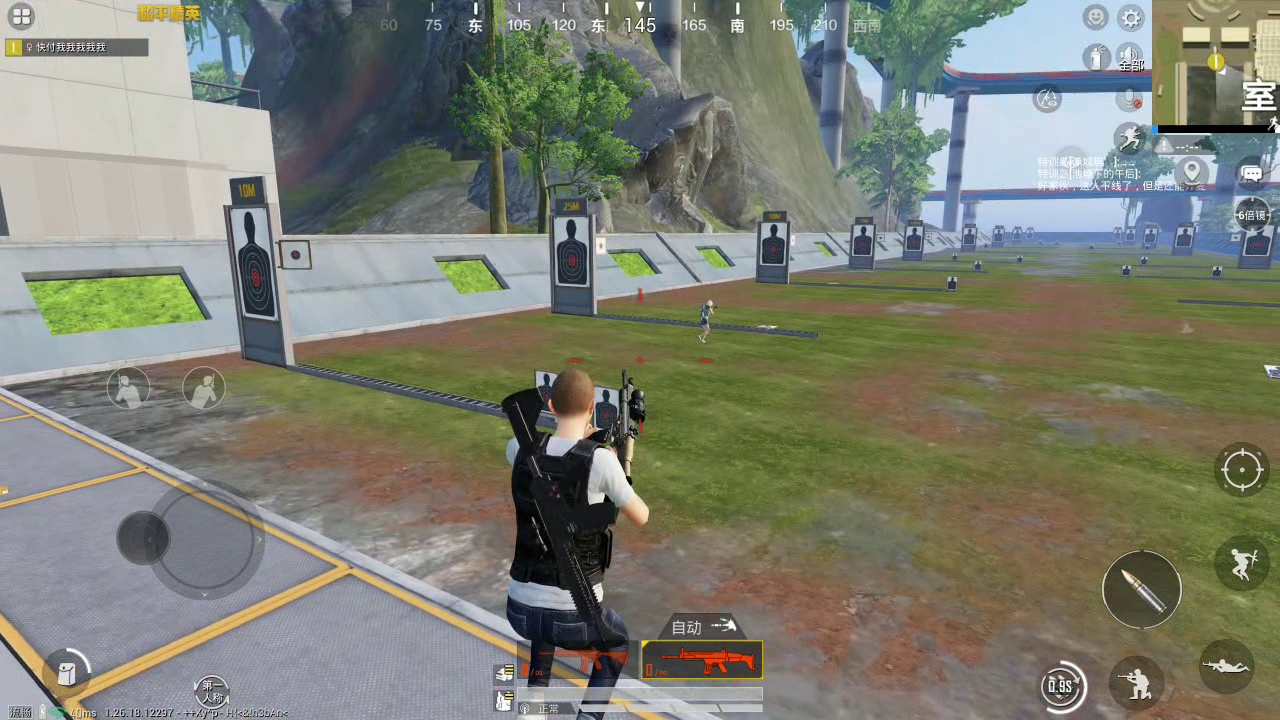enemy: (697, 301, 715, 343)
